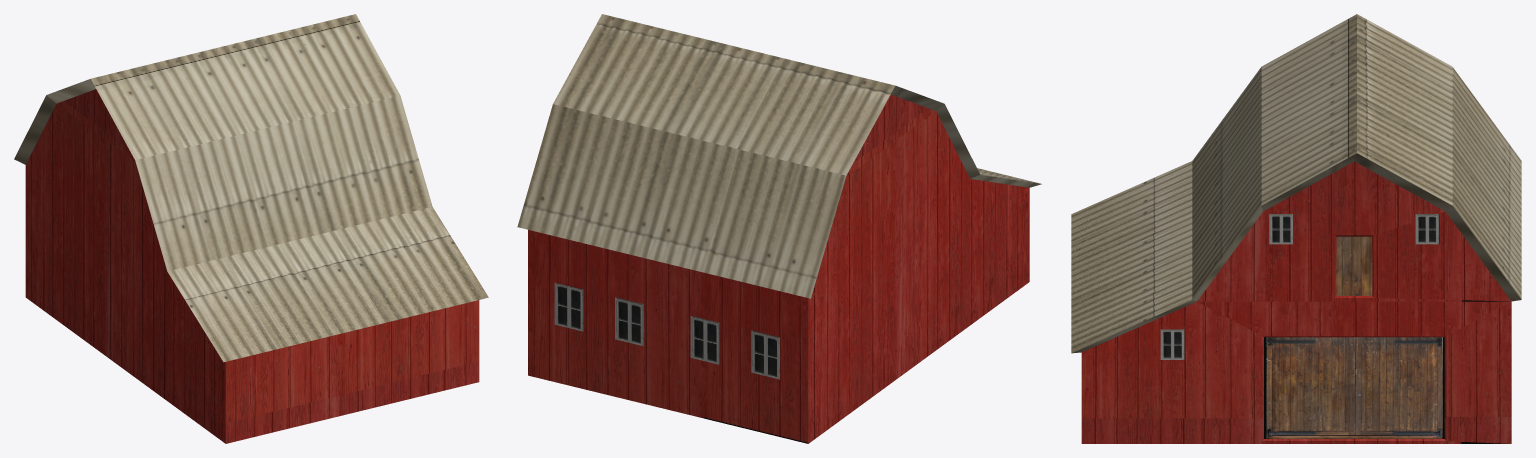
The model's file is ambar.fbx.
The picture shows the model from 3 angles, left to right: view 1: azimuth 30°, elevation 25°; view 2: azimuth 150°, elevation 25°; view 3: azimuth 270°, elevation 25°; orthographic projection. The views are drawn at different scales.
Visible parts, largest first — view 1: Plane.001; view 2: Plane.001; view 3: Plane.001.
Part boxes in pixels (x1,y1,x2,y2): Plane.001: (14, 14, 488, 443); Plane.001: (517, 14, 1041, 443); Plane.001: (1071, 14, 1521, 443).
Size of the model in its own units: 790 by 777 by 1080.
Materials: 1 (1 with a texture image).
